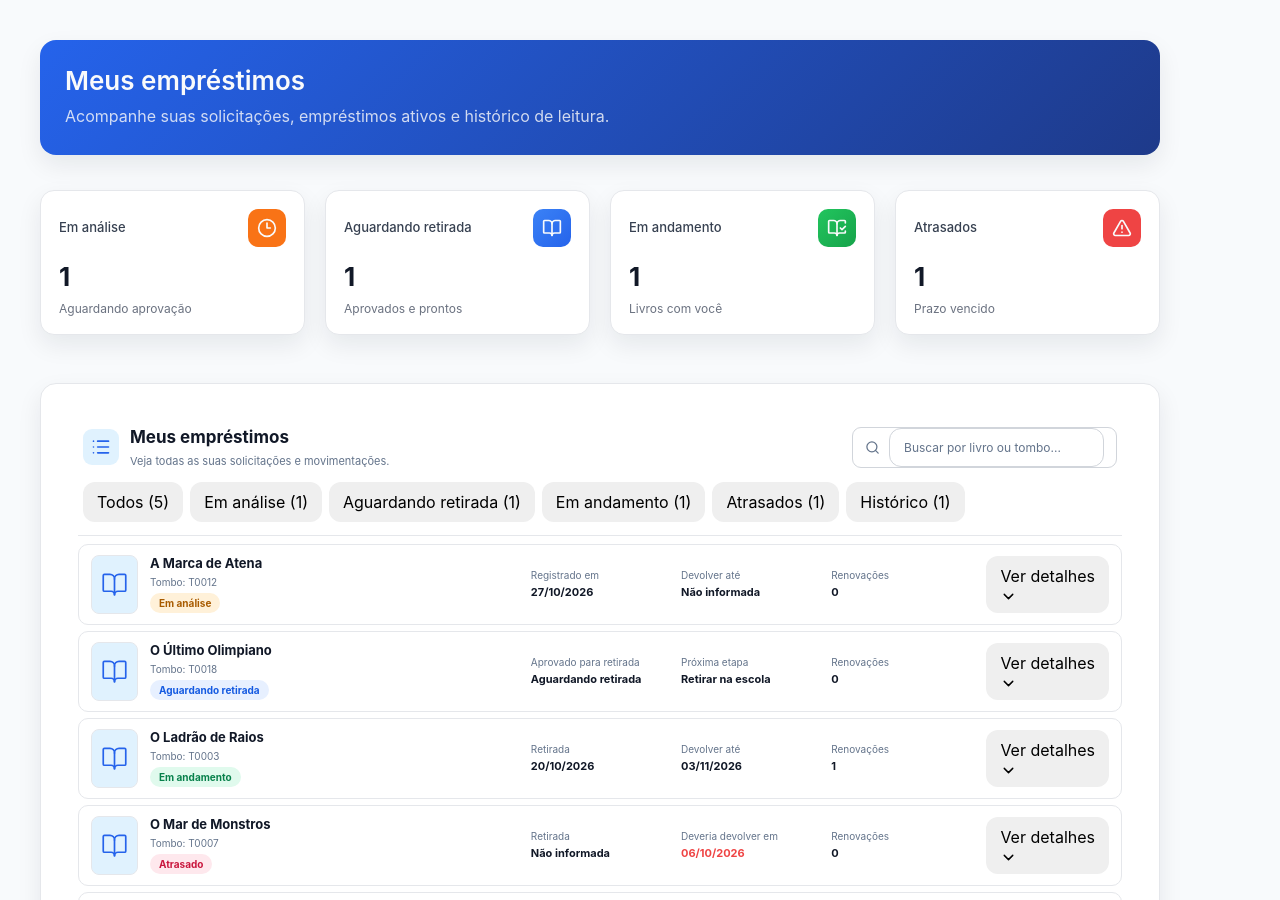
Test: busca por tombo, abre detalhes e exibe datas formatadas
Expected: the text "O Ladrão de Raios" is shown, top-left (150, 729), bottom-right (264, 746)
Type "T0003" into the search field named "Buscar empréstimos" at (996, 447), box top-left (889, 428), bottom-right (1104, 467)
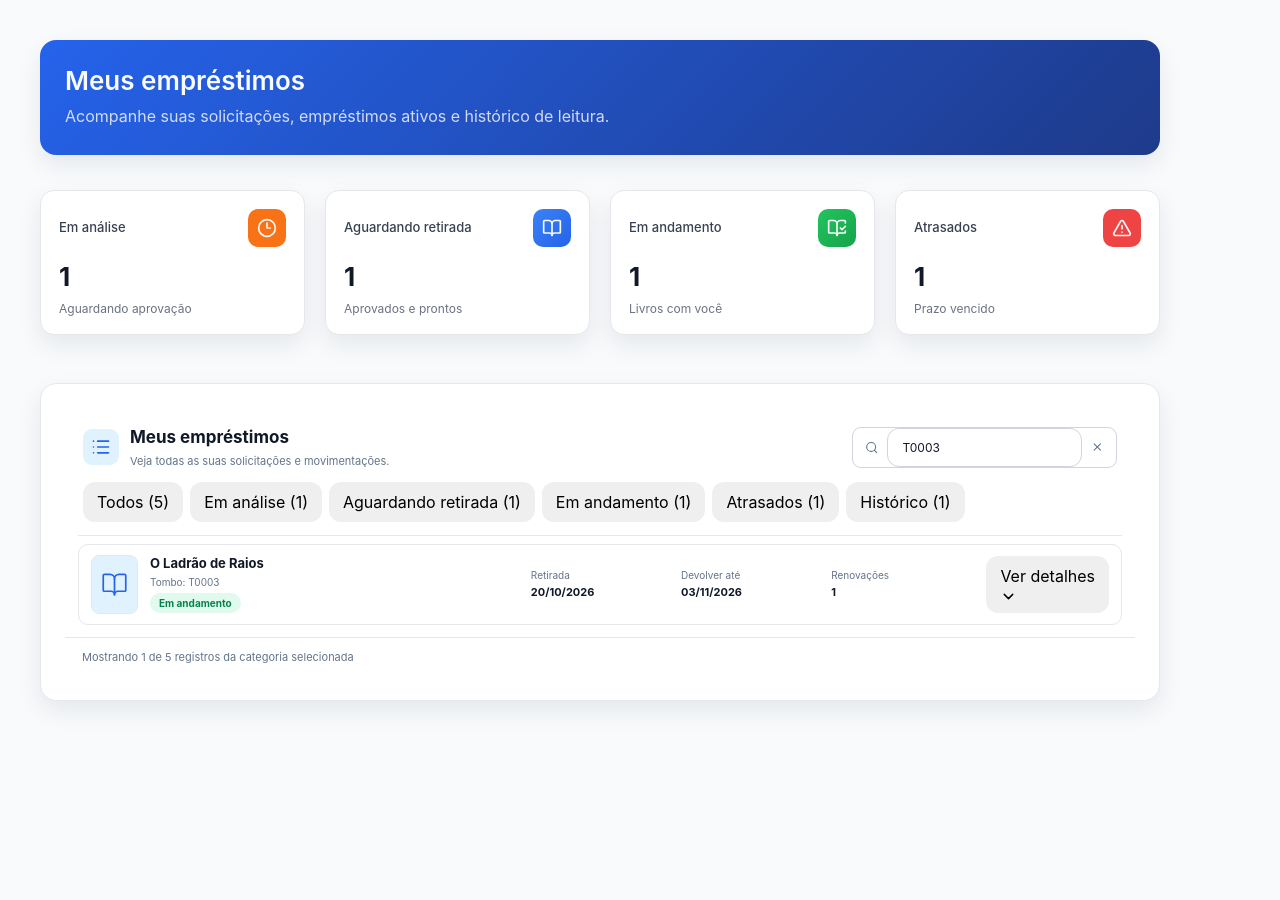
Expected: the text "O Ladrão de Raios" is shown, top-left (150, 555), bottom-right (264, 572)
Expected: the text "A Marca de Atena" is gone
Click the button with aria-label "Ver detalhes de O Ladrão de Raios" at (1048, 584), box top-left (986, 556), bottom-right (1109, 613)
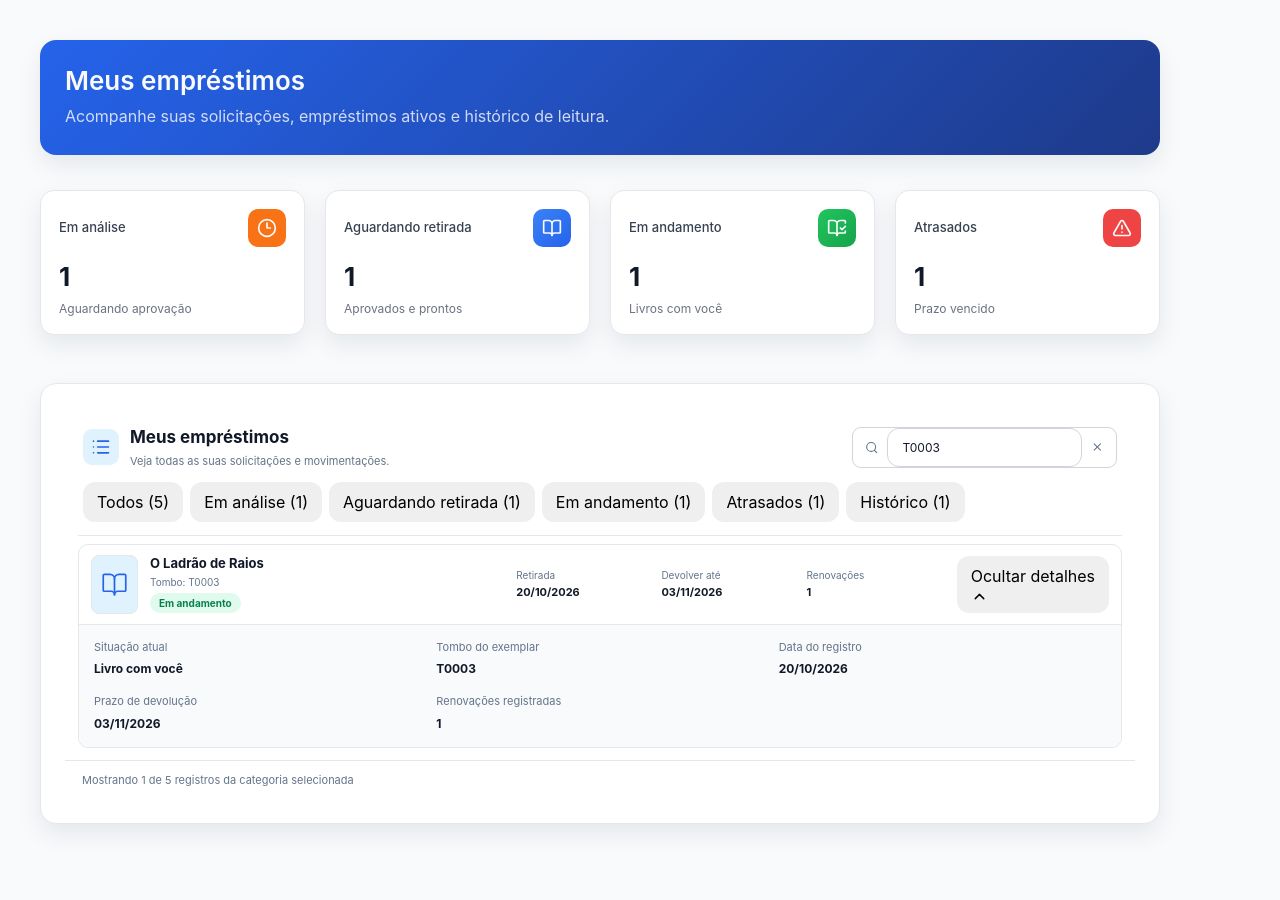
Expected: the text "03/11/2026" below "Devolver até" is shown, top-left (661, 585), bottom-right (722, 599)
Expected: the text "Renovações registradas" is shown, top-left (436, 694), bottom-right (561, 708)
